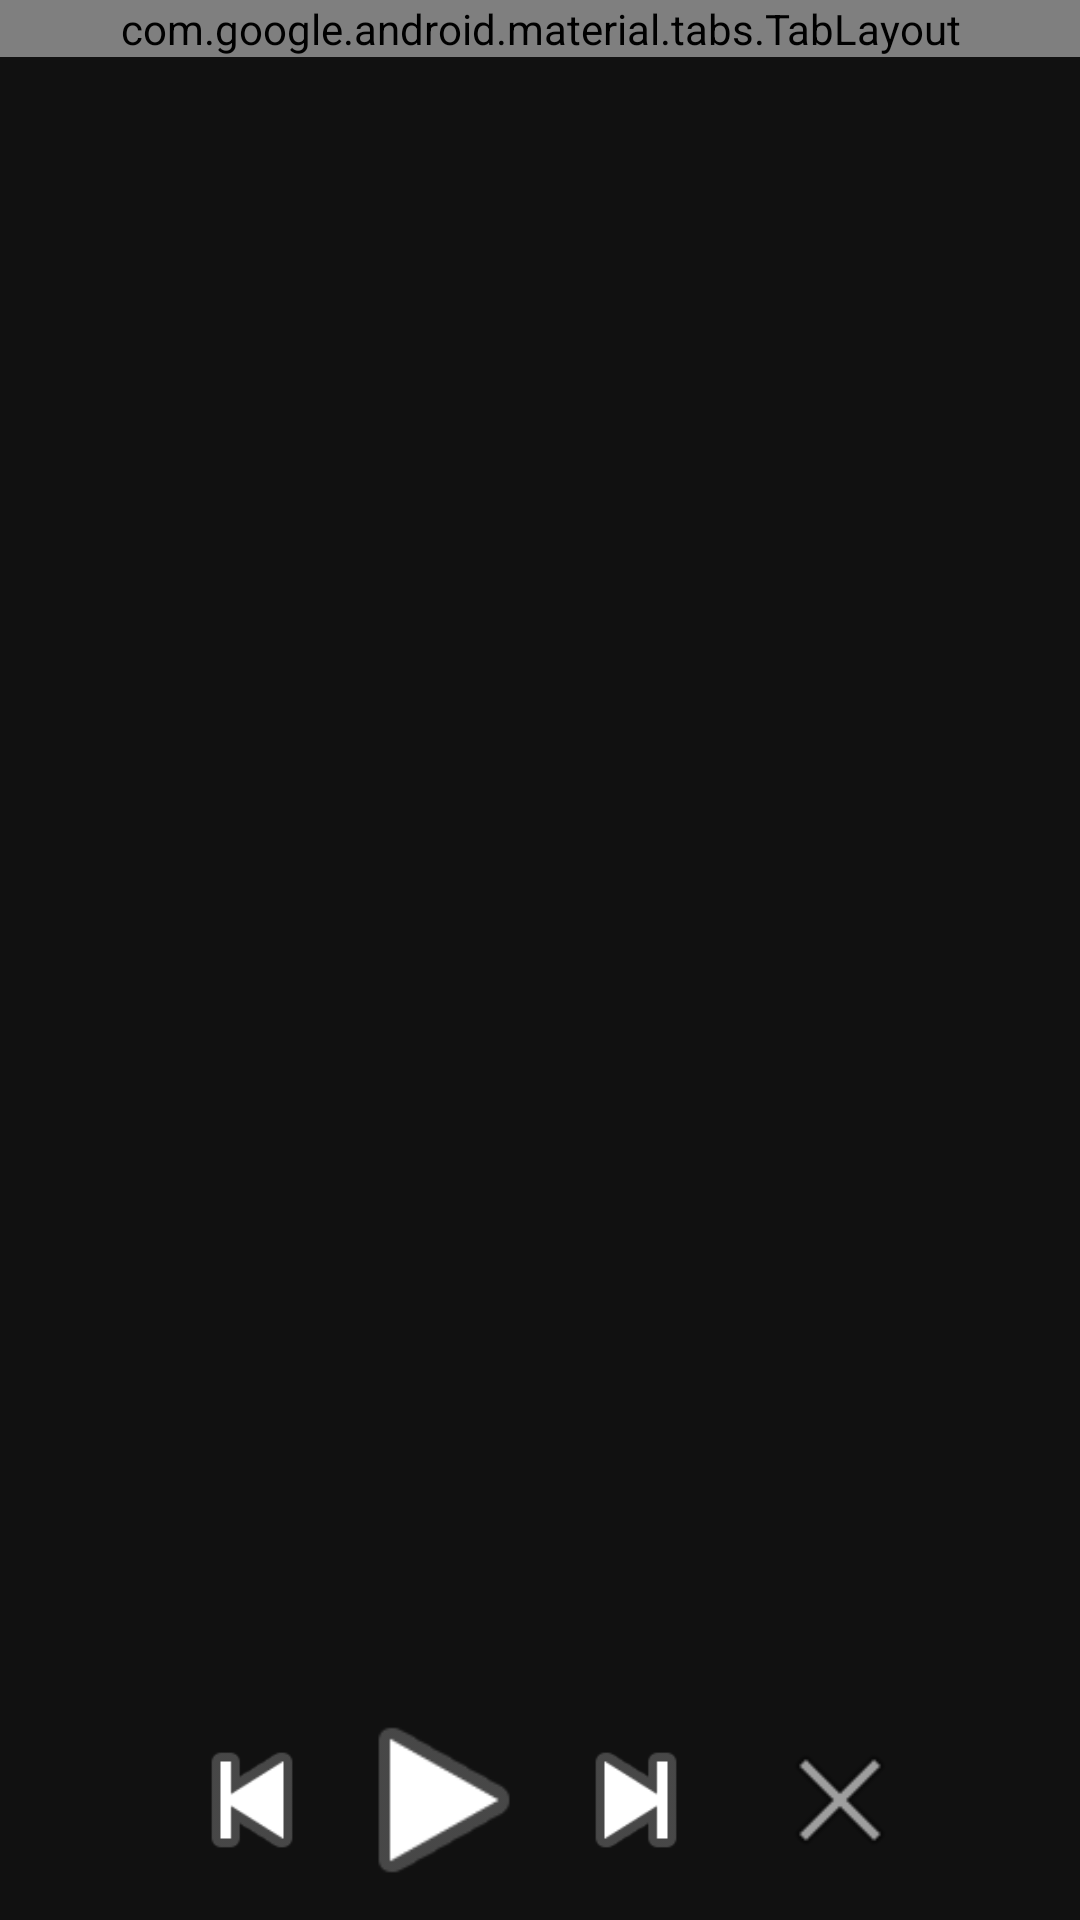

Screen size 1080*1920. Icon name, then its center in pixels as (x,y):
close clear cancel: (840,1800)
next: (636,1800)
play: (444,1800)
previous: (252,1800)
